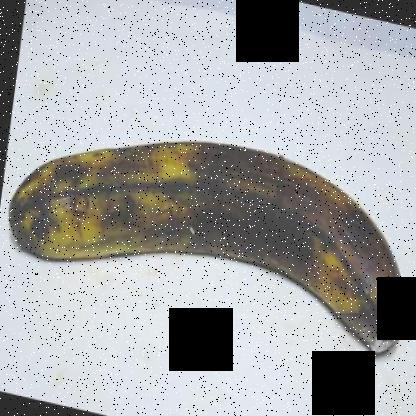overripe: (0, 112, 413, 364)
